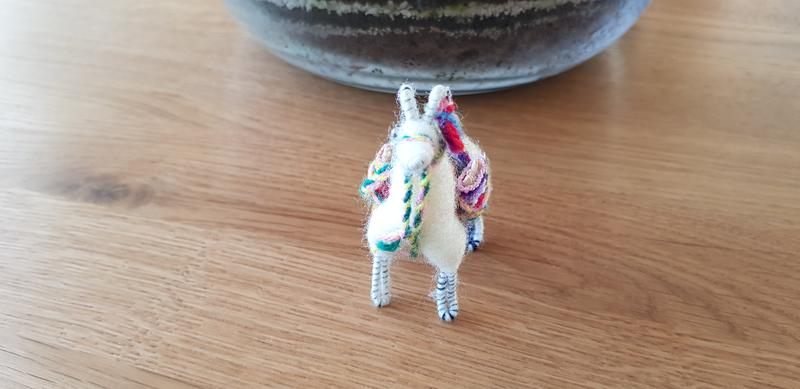Horse-Toy: (353, 82, 500, 329)
